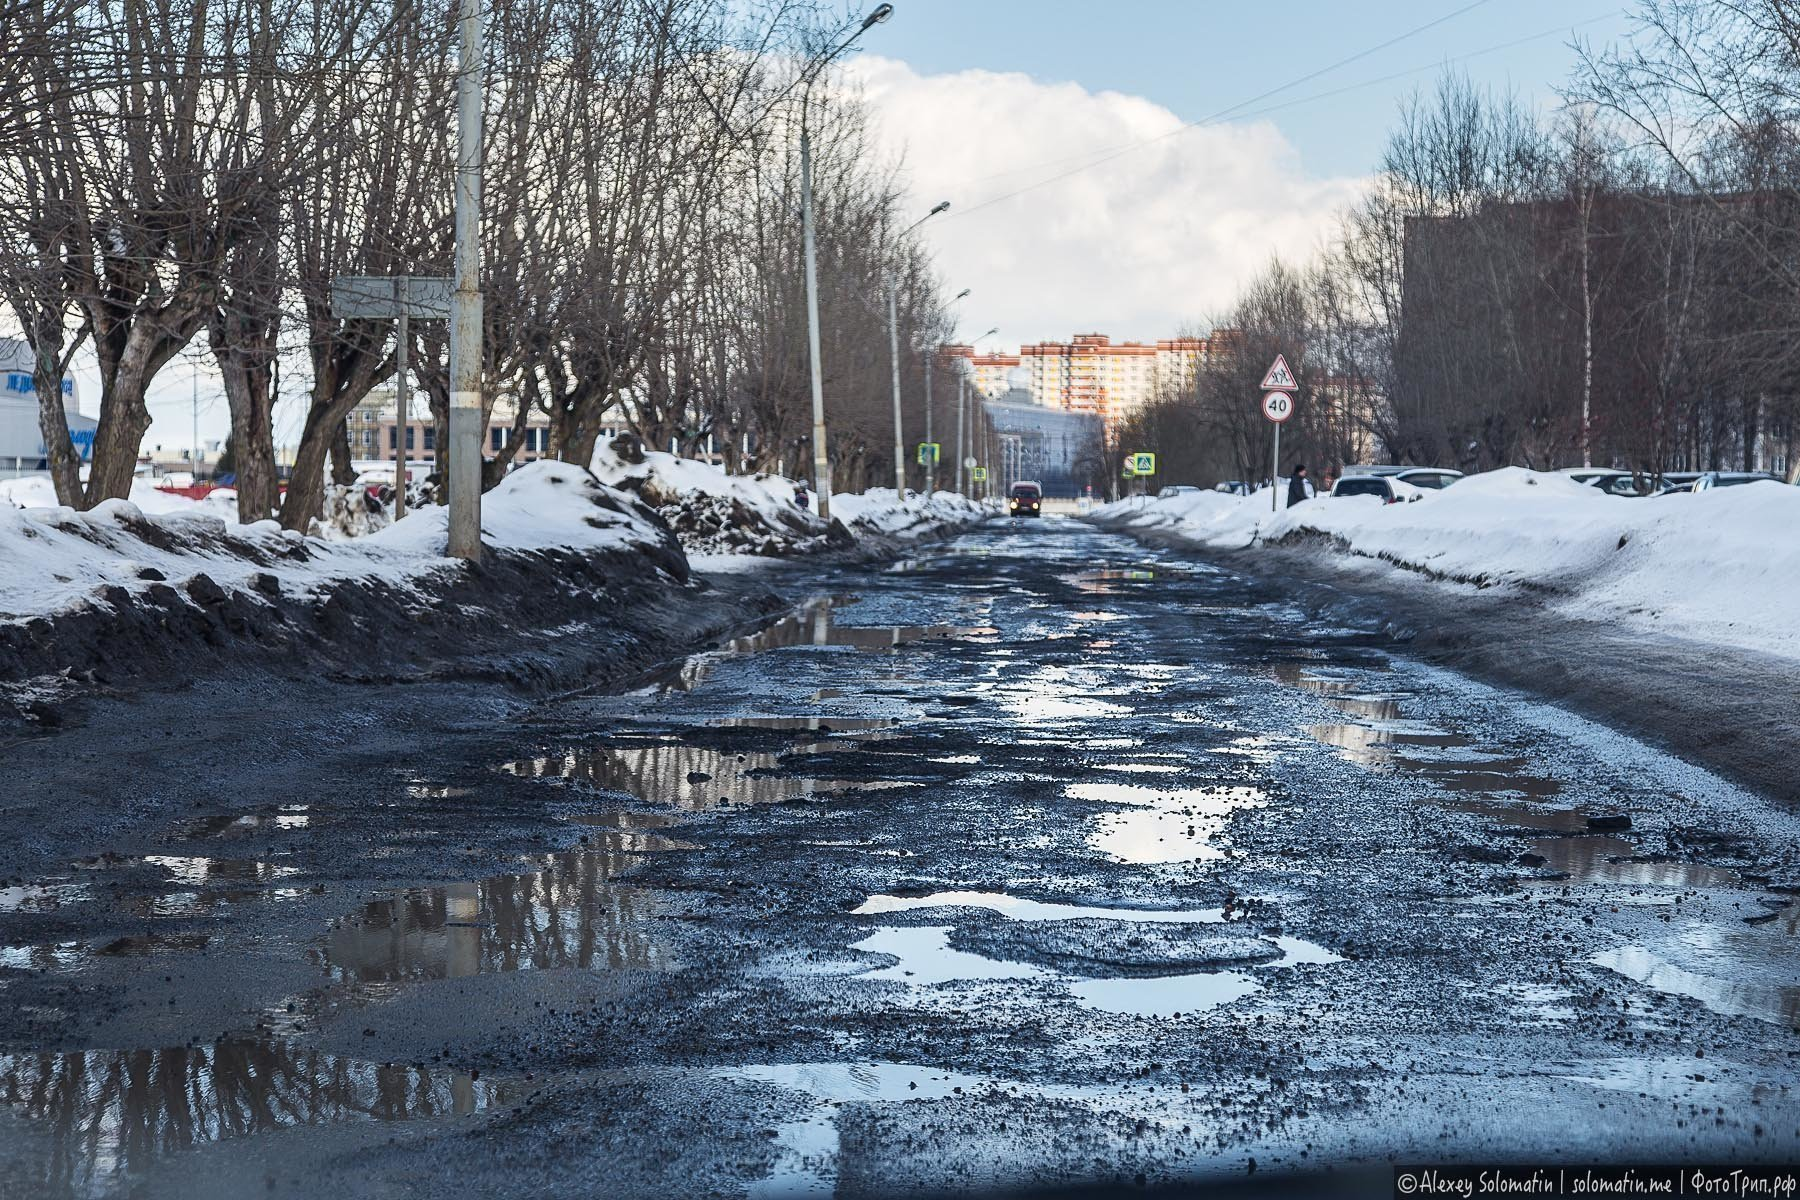sign: (1259, 354, 1300, 392), (1262, 390, 1295, 422), (917, 443, 940, 466), (1134, 451, 1154, 475), (974, 466, 987, 481), (1124, 455, 1137, 469), (1124, 466, 1134, 478)
